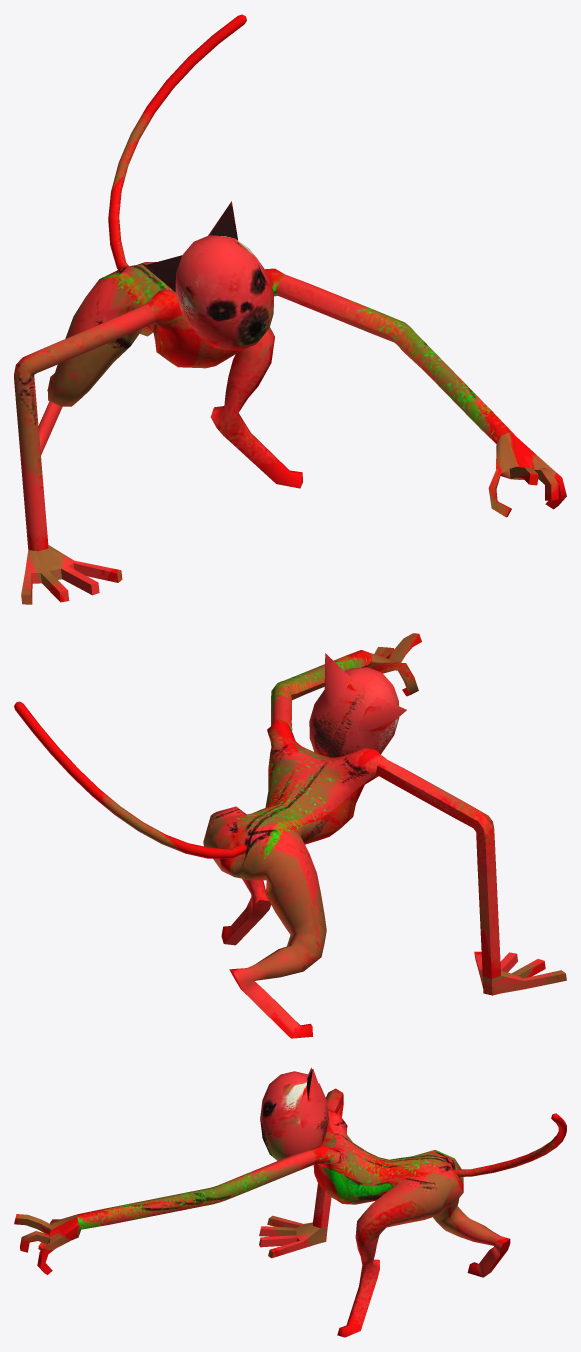
Rendered from SM_Monster_pose_1.fbx.
3 renders of one model, top to bottom at view 1: azimuth 30°, elevation 25°; view 2: azimuth 150°, elevation 25°; view 3: azimuth 270°, elevation 25°, orthographic. The views are drawn at different scales.
Parts seen in each view (by area): view 1: SM_Monster_pose_1; view 2: SM_Monster_pose_1; view 3: SM_Monster_pose_1.
Boxes of the visible parts, x1=… form: SM_Monster_pose_1: x1=14, y1=14, x2=566, y2=604; SM_Monster_pose_1: x1=14, y1=633, x2=566, y2=1038; SM_Monster_pose_1: x1=14, y1=1067, x2=566, y2=1337.
Size of the model in its own units: 332 by 265 by 517.
1 material, 1 textured.
